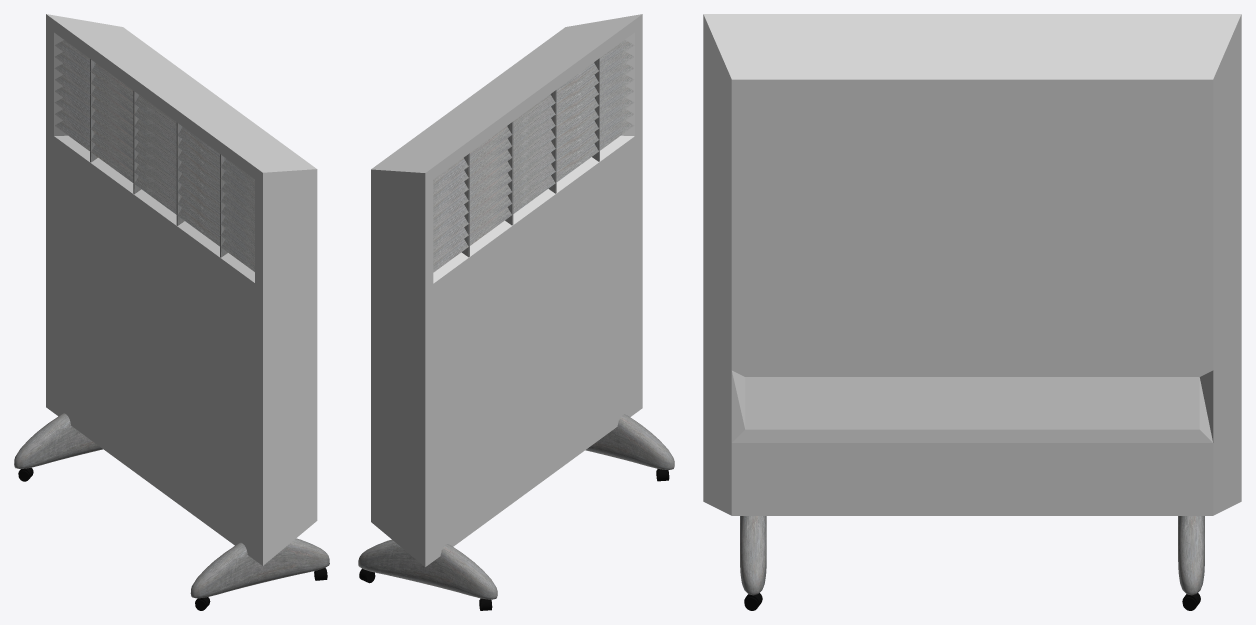
File: 5_convector.FBX
The picture shows the model from 3 angles, left to right: view 1: azimuth 30°, elevation 25°; view 2: azimuth 150°, elevation 25°; view 3: azimuth 270°, elevation 25°; orthographic projection. The views are drawn at different scales.
Visible parts, largest first — view 1: Box001, Box003, Box002, Plane001, Plane003, Plane008, Plane002, Plane005, Plane006, Plane007, Plane004, Box005; view 2: Box001, Box002, Box003, Plane001, Plane008, Plane002, Plane003, Plane004, Plane005, Plane006, Plane007, Box006 (+1 smaller); view 3: Box001, Box002, Box003.
Part boxes in pixels (x1,y1,x2,y2): Box001: (46,14,317,565); Box003: (190,538,329,598); Box002: (14,413,102,469); Plane001: (55,40,254,191); Plane003: (54,63,254,214); Plane008: (55,120,254,271); Plane002: (54,52,254,203); Plane005: (55,86,254,237); Plane006: (54,97,254,248); Plane007: (55,109,254,260); Plane004: (55,75,254,225); Box005: (176,122,184,225); Box001: (371,14,642,566); Box002: (358,539,497,599); Box003: (585,414,674,470); Plane001: (433,40,634,192); Plane008: (433,120,634,272); Plane002: (433,52,633,203); Plane003: (433,63,633,214); Plane004: (433,75,633,226); Plane005: (433,86,633,237); Plane006: (433,97,633,249); Plane007: (433,109,633,260); Box006: (505,121,513,225); Box001: (703,14,1241,515); Box002: (1178,516,1204,595); Box003: (740,516,766,595).
Size of the model in its own units: 720 by 2199 by 1961.
Materials: 2 (1 with a texture image).
